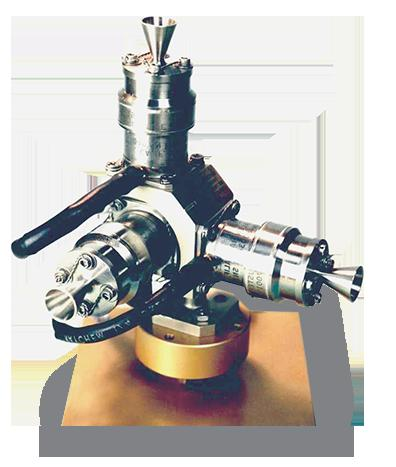thruster: (42, 278, 93, 325), (140, 14, 181, 61), (320, 265, 366, 304)
